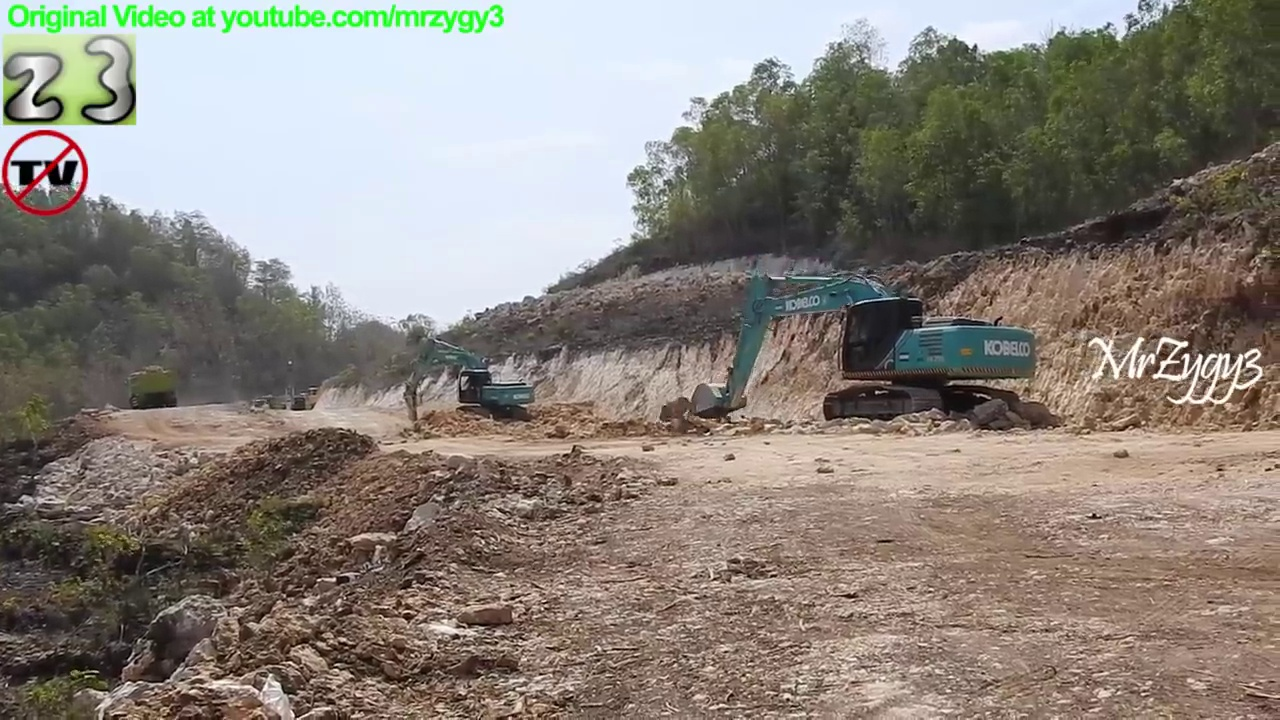excavator: (688, 262, 1046, 437), (278, 357, 310, 417), (299, 371, 338, 413)
excavator breaker: (398, 331, 538, 430)
truck: (124, 362, 182, 413)
